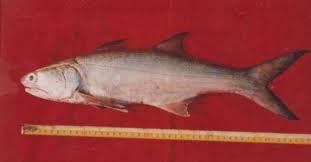Fourfinger Threadfish: (20, 32, 309, 122)
